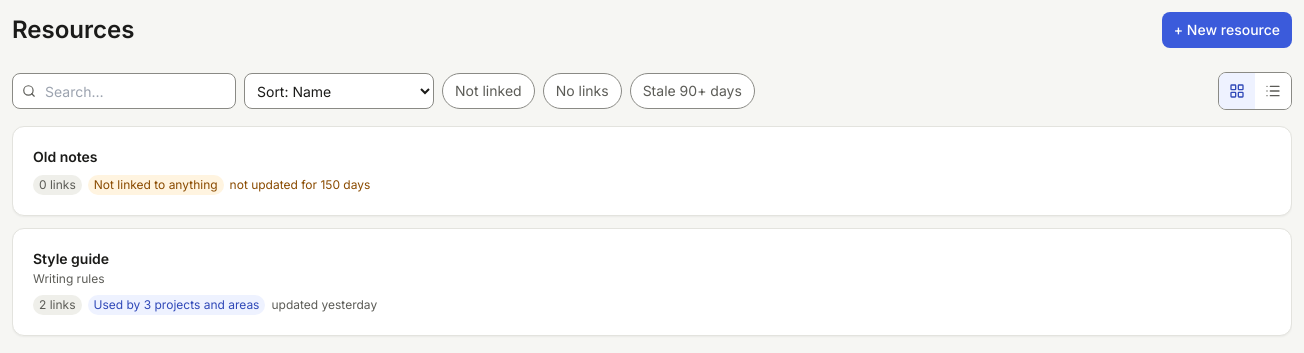
Test: ResourcesPage › the compact list shows links and linked-to counts
Expected: the heading "Style guide" is shown, [33,250,109,267]
Click the button named "List view" at coordinates (1273, 91), box [1255,73,1291,109]
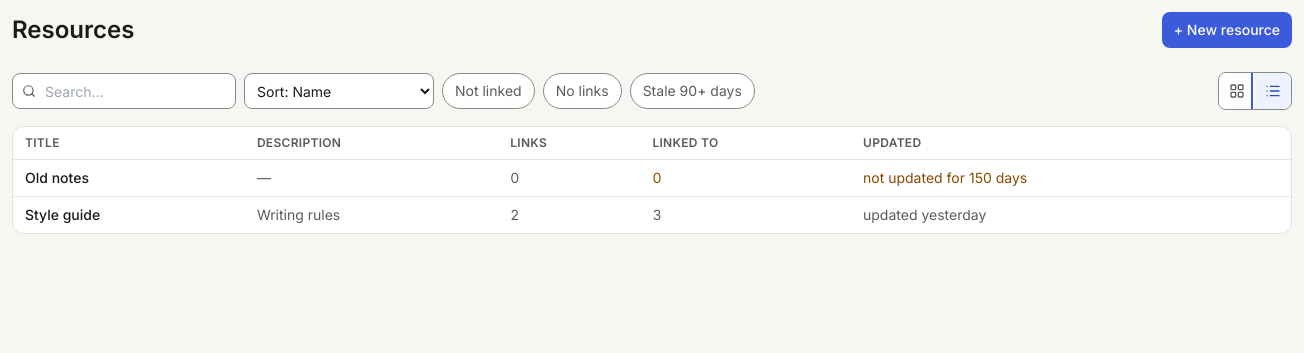
Expected: the column headings read "Title", "Description", "Links", "Linked to", "Updated", in this order, [13,127,245,159]; [245,127,498,159]; [498,127,640,159]; [640,127,851,159]; [851,127,1291,159]
